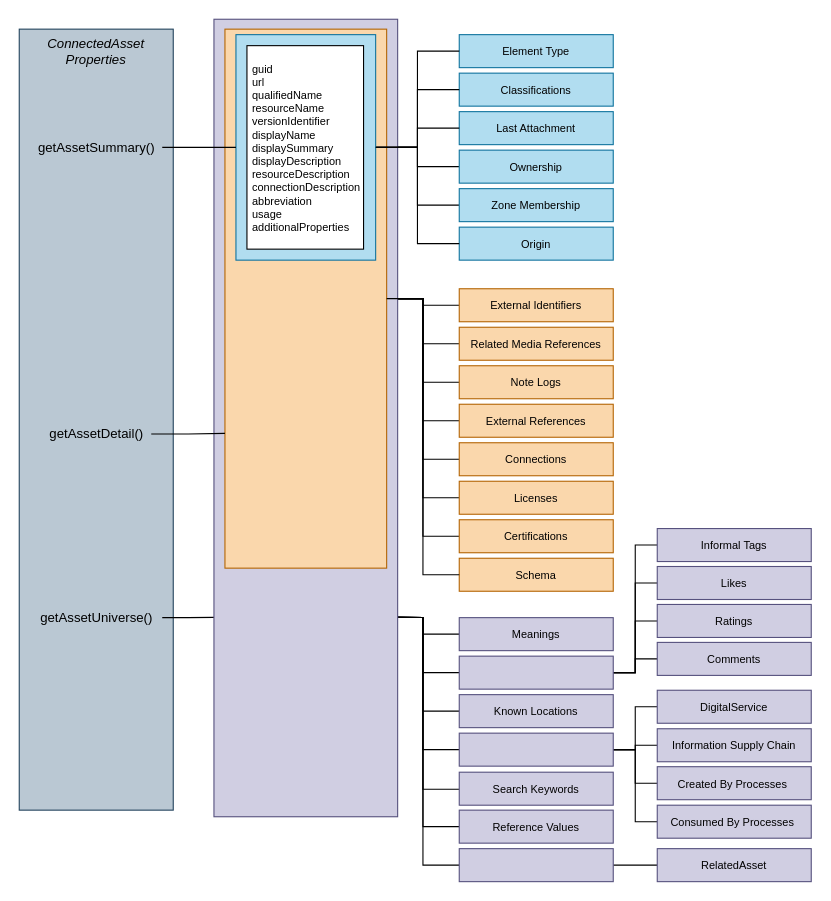
The diagram is 831 pixels wide and 901 high, and some of its shapes have lost their labels. Each missing label, with the centre of its shape:
Feedback: (535,672)
Lineage: (535,749)
Related Assets: (535,865)
